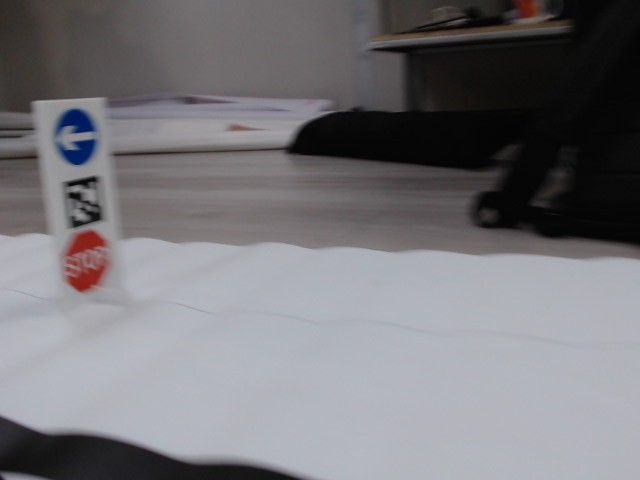Stop: (63, 230, 111, 290)
